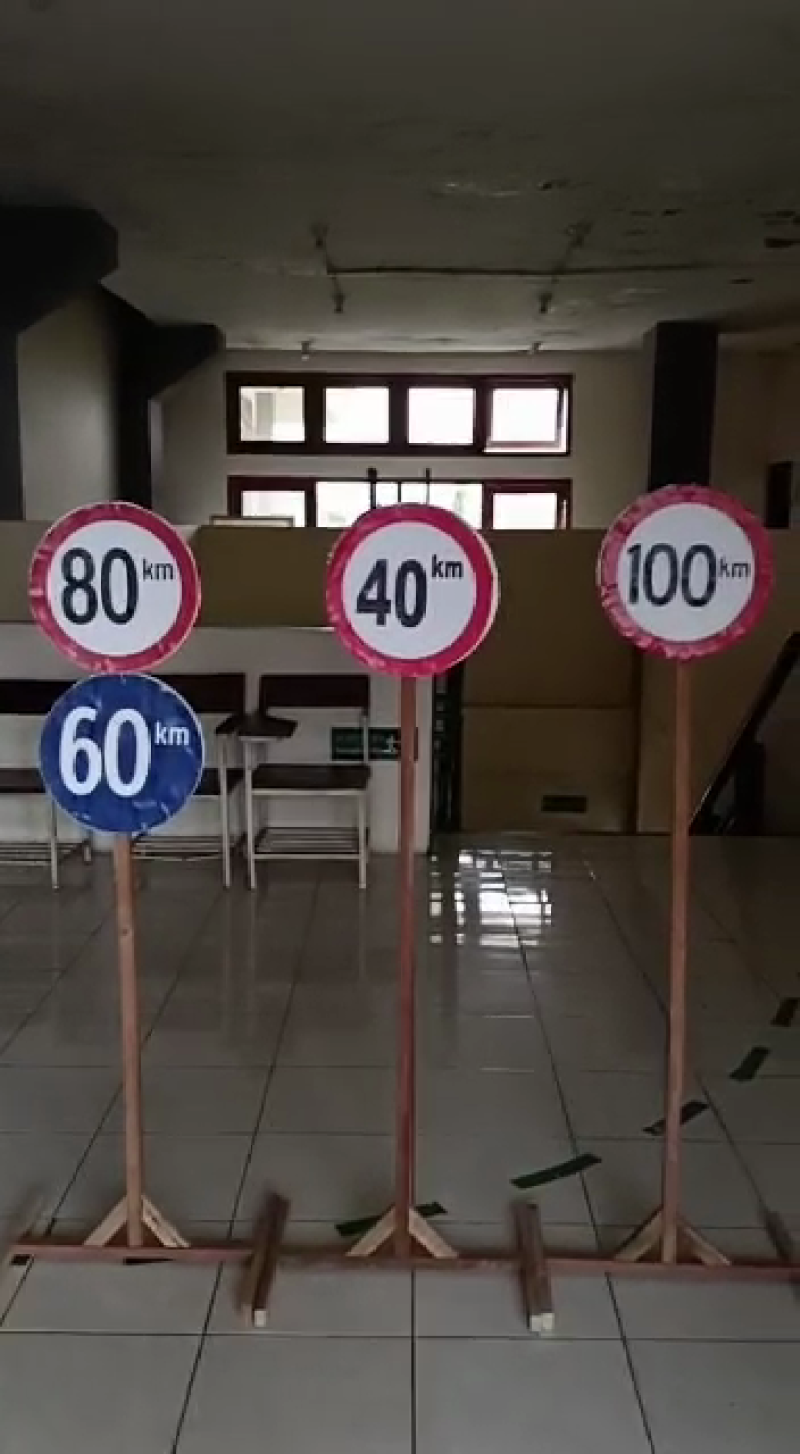batas maksimal 100kmperjam: (585, 466, 787, 672)
batas maksimal 40kmperjam: (318, 496, 513, 679)
batas maksimal 80kmperjam minimal 60kmperjam: (22, 492, 218, 840)
